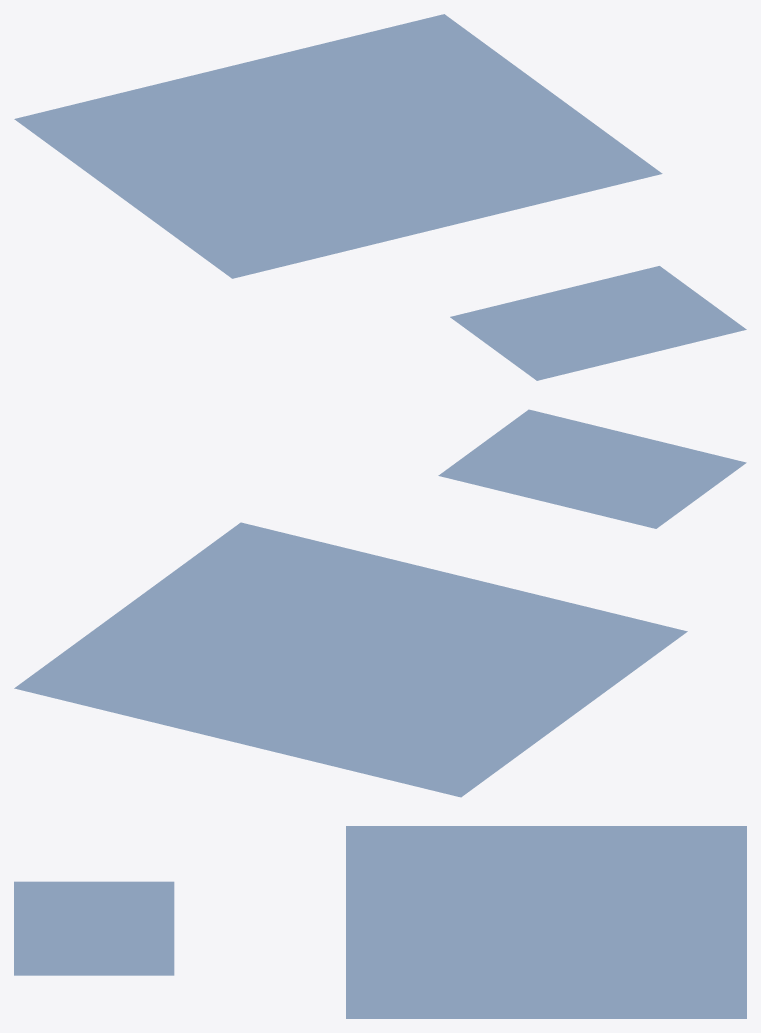
File: Ground.fbx
3 views of the same model, one above another, from view 1: azimuth 30°, elevation 25°; view 2: azimuth 150°, elevation 25°; view 3: azimuth 270°, elevation 25° (orthographic). The views are drawn at different scales.
Visible parts, largest first — view 1: pPlane2, pPlane1; view 2: pPlane2, pPlane1; view 3: pPlane2, pPlane1.
Boxes of the visible parts, x1,y1,x2,y2 form: pPlane2: (14, 14, 662, 278); pPlane1: (450, 266, 746, 380); pPlane2: (14, 522, 687, 797); pPlane1: (438, 409, 746, 528); pPlane2: (346, 826, 746, 1018); pPlane1: (14, 881, 174, 975).
Size of the model in its own units: 3300 by 0 by 5300.
